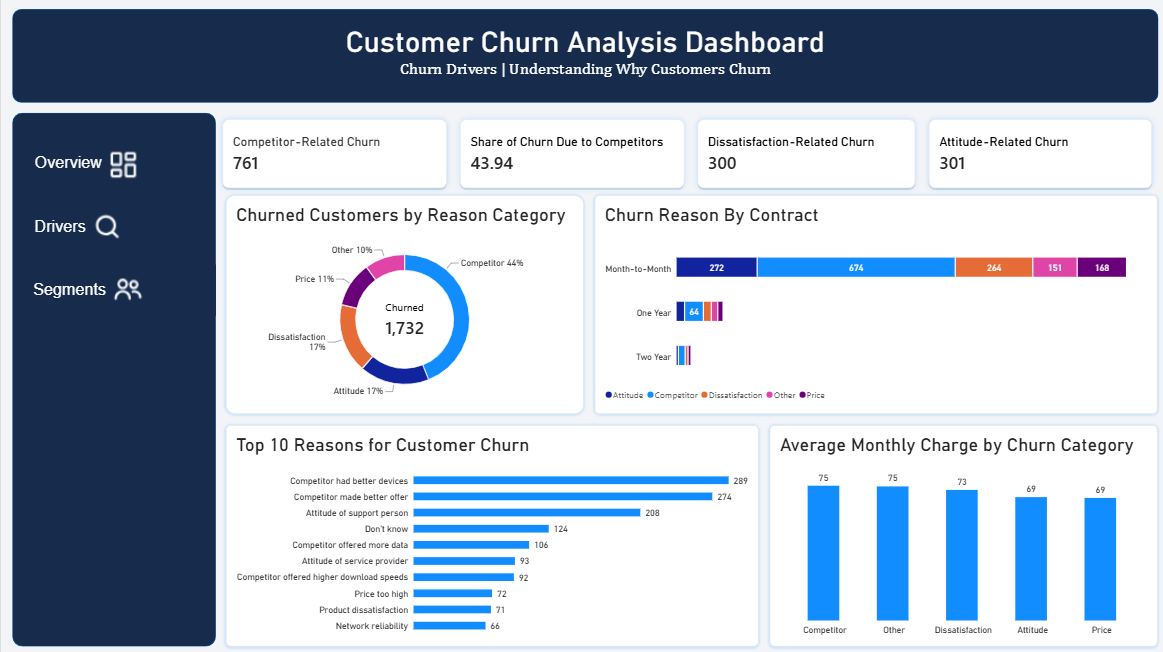

This screenshot's page, from the dashboard's own definition file:
{"tool":"powerbi","page":{"name":"Churn Drivers","canvas":[1920,1080],"ordinal":1},"visuals":[{"type":"cardVisual","fields":{"Data":["customer_churn.Competitor Churn Customers"]},"box":[354,187.3,391.1,135.8],"z":0},{"type":"cardVisual","fields":{"Data":["customer_churn.Competitor Churn Share"]},"box":[745.1,187.3,391.1,135.8],"z":1000},{"type":"cardVisual","fields":{"Data":["customer_churn.Dissatisfaction Churn Customers"]},"box":[1136.2,187.3,380.8,135.8],"z":2000},{"type":"cardVisual","fields":{"Data":["customer_churn.Attitude Churn Customers"]},"box":[1516.5,188.2,389.1,135.7],"z":3000},{"type":"donutChart","title":"Churned Customers by Reason Category","fields":{"Category":["customer_churn.Churn_Category"],"Y":["CountNonNull(customer_churn.Customer_ID)1"]},"box":[370.5,323.2,588.7,360.2],"z":4000},{"type":"barChart","title":"Churn Reason By Contract","fields":{"Category":["customer_churn.Contract"],"Series":["customer_churn.Churn_Category"],"Y":["CountNonNull(customer_churn.Customer_ID)"]},"box":[977.7,323.2,926.2,360.2],"z":5000},{"type":"clusteredBarChart","title":"Top 10 Reasons for Customer Churn","fields":{"Category":["customer_churn.Churn_Reason"],"Y":["CountNonNull(customer_churn.Customer_ID)"]},"box":[370.5,701.9,876.8,364.3],"z":6000},{"type":"clusteredColumnChart","title":"Average Monthly Charge by Churn Category","fields":{"Category":["customer_churn.Churn_Category"],"Y":["Avg(customer_churn.Monthly_Charge)"]},"box":[1265.9,701.9,638.1,364.3],"z":7000},{"type":"shape","box":[18.1,16.3,1887.5,154.4],"z":8000},{"type":"shape","box":[18.5,187.3,335.5,878.9],"z":9000},{"type":"actionButton","box":[43.2,218.2,292.3,105],"z":10000},{"type":"actionButton","box":[41.2,434.3,312.9,90.6],"z":11000},{"type":"actionButton","box":[43.2,323.2,292.3,105],"z":12000},{"type":"textbox","box":[41.6,43.4,1842.2,114],"z":13000}]}

Visuals, with their boxes in screenshot pixels (x1, y1, x2, y2), scaled from the page's 1920x1080 canvas onto the 1163x652 screenshot:
cardVisual - customer_churn.Competitor Churn Customers: (214,113,451,195)
cardVisual - customer_churn.Competitor Churn Share: (451,113,688,195)
cardVisual - customer_churn.Dissatisfaction Churn Customers: (688,113,919,195)
cardVisual - customer_churn.Attitude Churn Customers: (919,114,1154,196)
"Churned Customers by Reason Category" donutChart: (224,195,581,413)
"Churn Reason By Contract" barChart: (592,195,1153,413)
"Top 10 Reasons for Customer Churn" clusteredBarChart: (224,424,756,644)
"Average Monthly Charge by Churn Category" clusteredColumnChart: (767,424,1153,644)
shape: (11,10,1154,103)
shape: (11,113,214,644)
actionButton: (26,132,203,195)
actionButton: (25,262,214,317)
actionButton: (26,195,203,259)
textbox: (25,26,1141,95)
